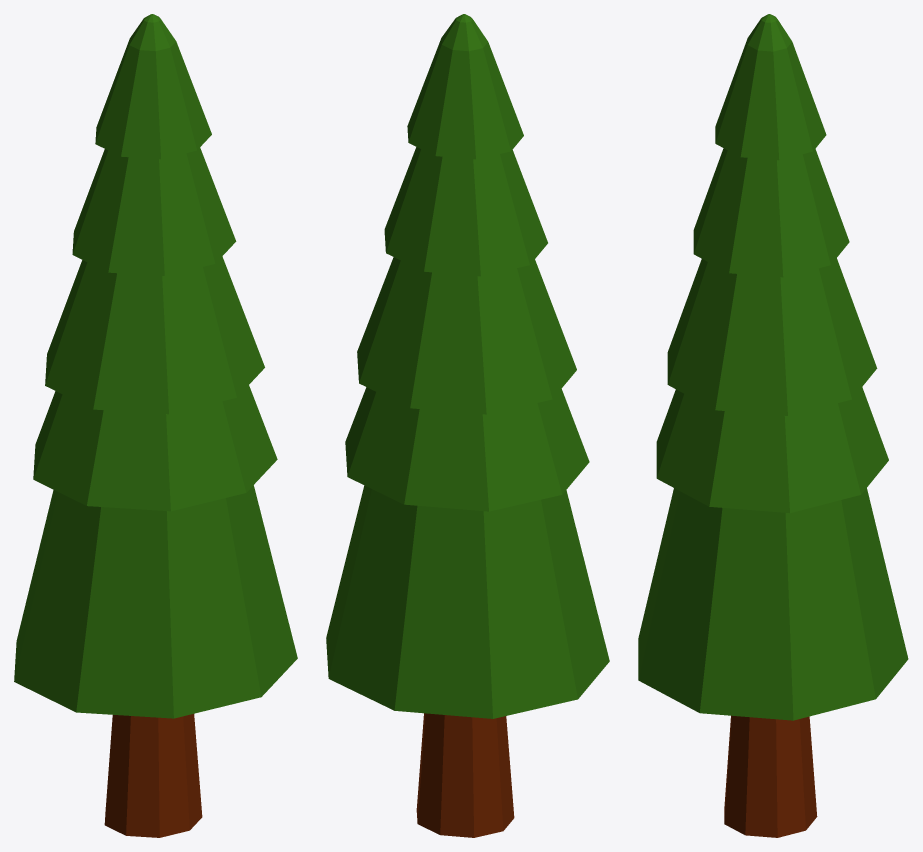
The model's file is small tree.glb.
3 views of the same model, side by side, from view 1: azimuth 30°, elevation 25°; view 2: azimuth 150°, elevation 25°; view 3: azimuth 270°, elevation 25° (orthographic).
Parts seen in each view (by area): view 1: small_tree, small_tree.004, small_tree.005, small_tree.003, small_tree.002, small_tree.001; view 2: small_tree, small_tree.004, small_tree.005, small_tree.003, small_tree.002, small_tree.001; view 3: small_tree, small_tree.004, small_tree.005, small_tree.003, small_tree.002, small_tree.001.
Boxes of the visible parts, x1=… form: small_tree: x1=14, y1=485, x2=297, y2=718; small_tree.004: x1=45, y1=256, x2=264, y2=414; small_tree.005: x1=33, y1=385, x2=277, y2=511; small_tree.003: x1=72, y1=147, x2=236, y2=275; small_tree.002: x1=95, y1=14, x2=211, y2=159; small_tree.001: x1=104, y1=714, x2=202, y2=837; small_tree: x1=326, y1=485, x2=609, y2=718; small_tree.004: x1=357, y1=257, x2=576, y2=414; small_tree.005: x1=345, y1=387, x2=589, y2=511; small_tree.003: x1=384, y1=147, x2=547, y2=276; small_tree.002: x1=407, y1=14, x2=523, y2=159; small_tree.001: x1=416, y1=713, x2=514, y2=837; small_tree: x1=638, y1=488, x2=908, y2=720; small_tree.004: x1=667, y1=258, x2=877, y2=415; small_tree.005: x1=656, y1=387, x2=888, y2=512; small_tree.003: x1=693, y1=148, x2=849, y2=277; small_tree.002: x1=715, y1=14, x2=826, y2=160; small_tree.001: x1=724, y1=715, x2=817, y2=837.
Bounding box in the file's own units: 1.52 × 4.62 × 1.41.
1 material, 1 textured.
